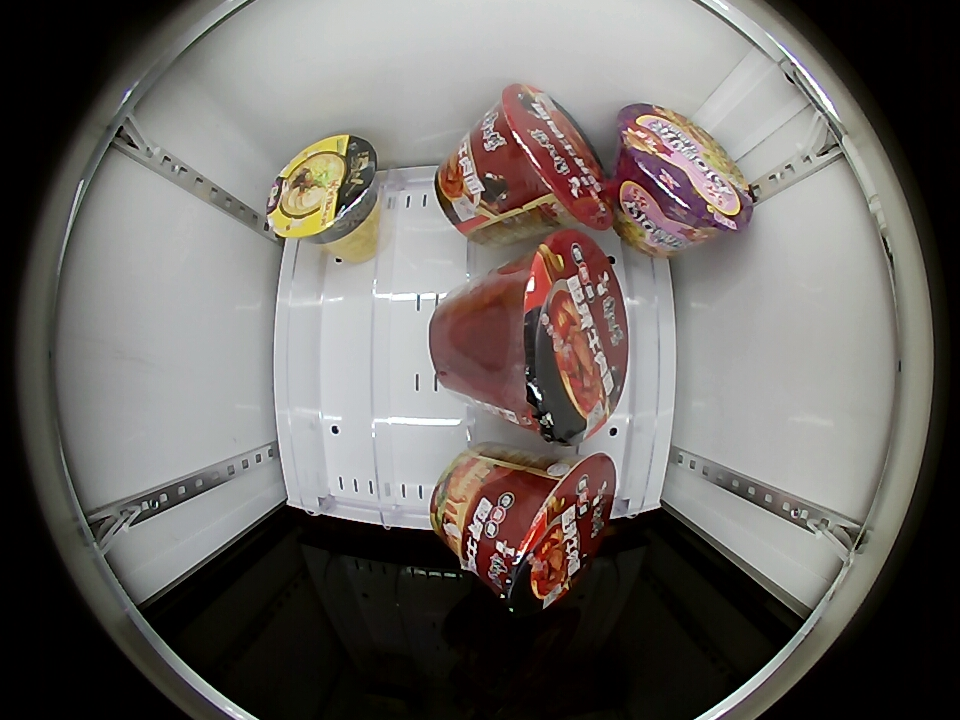laotansuancai: (616, 103, 754, 241)
suanlaniurou: (493, 232, 630, 443), (468, 453, 618, 613), (476, 84, 615, 228)
tangdaren2: (267, 134, 378, 244)
